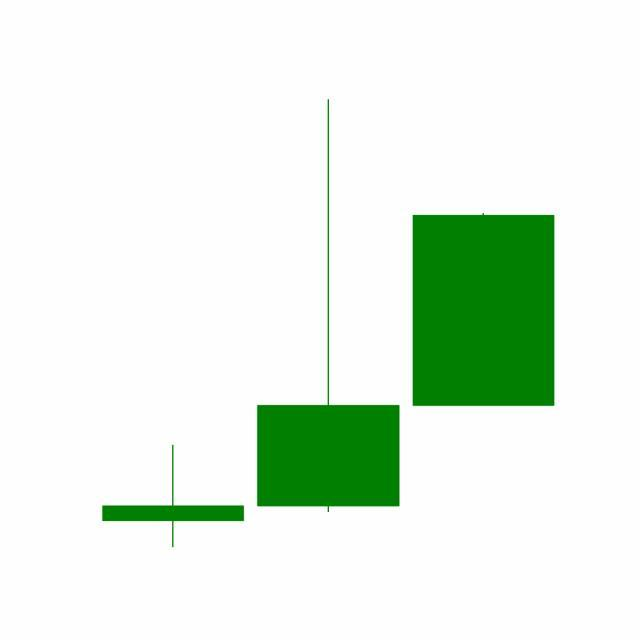Marubozu: (406, 212, 562, 409)
